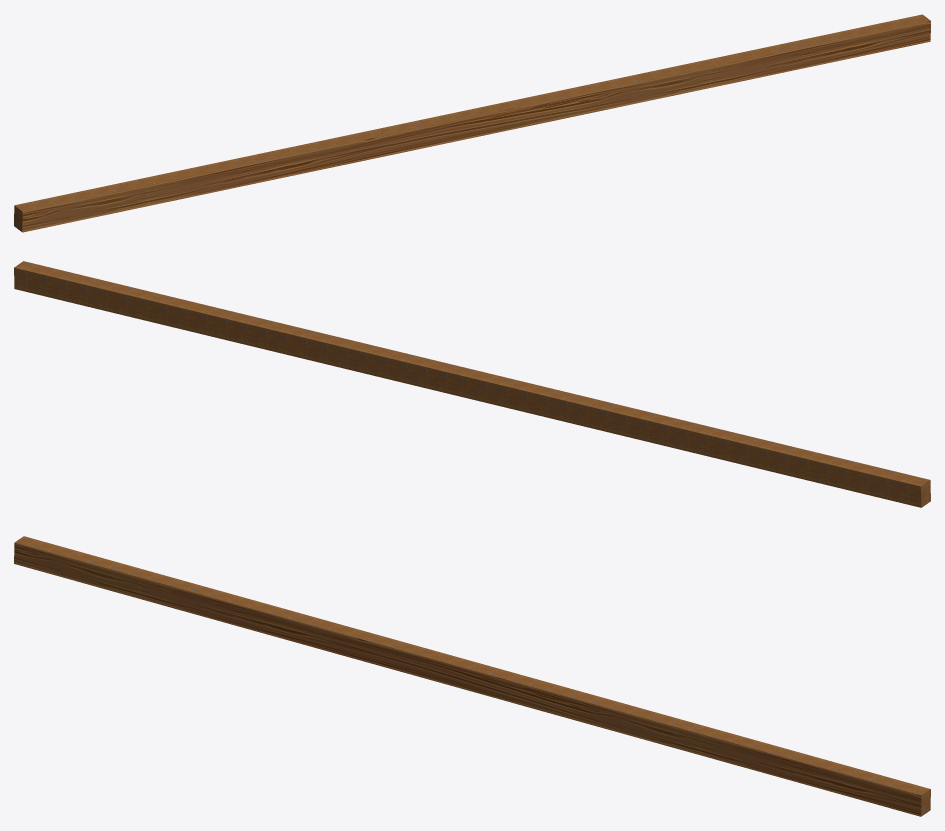
3 views of the same model, one above another, from view 1: azimuth 30°, elevation 25°; view 2: azimuth 150°, elevation 25°; view 3: azimuth 330°, elevation 25° (orthographic). The views are drawn at different scales.
Visible parts, largest first — view 1: Cube.403; view 2: Cube.403; view 3: Cube.403.
Part boxes in pixels (x1,y1,x2,y2): Cube.403: (14, 14, 930, 232); Cube.403: (14, 261, 930, 507); Cube.403: (14, 536, 930, 816).
Bounding box in the file's own units: 863 × 34.37 × 39.1.
1 material, 1 textured.
